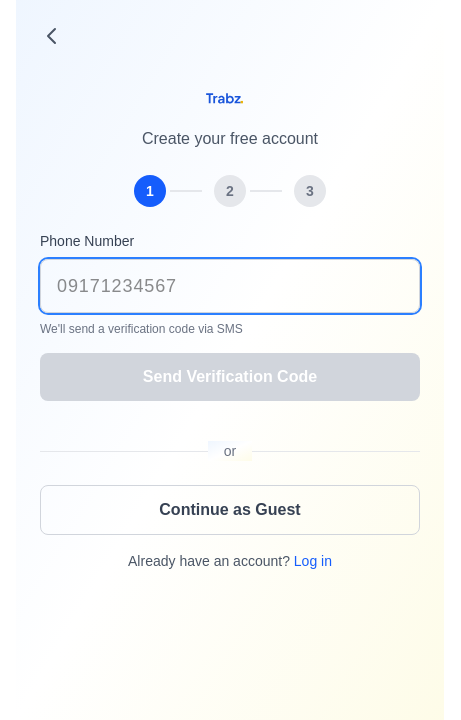
Test: Register flow › Error handling › clears error between steps
// Trigger a validation error on the phone step
In the field labelled "Phone Number": (230, 286) x1=40 y1=259 x2=420 y2=313, type "123"
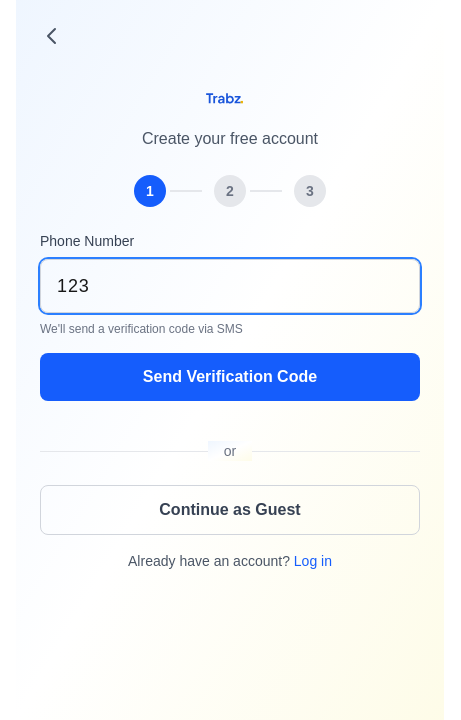
Click the button "Send Verification Code": (230, 377) x1=40 y1=353 x2=420 y2=401
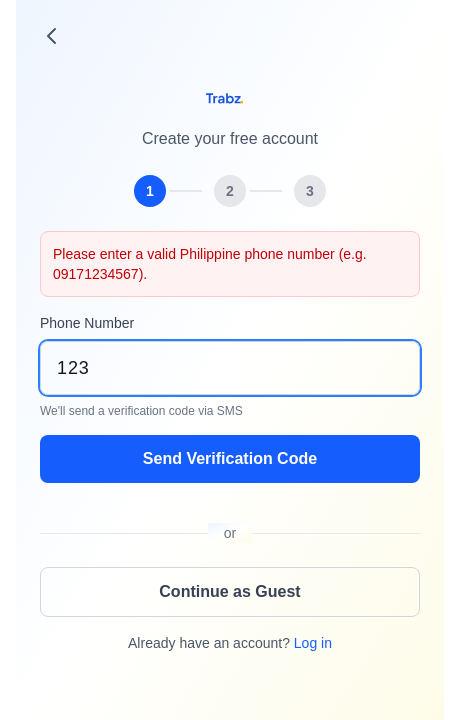
Check: the text "Please enter a valid Philippine phone number (e.g. 09171234567)." is shown, box x1=40 y1=231 x2=420 y2=297
// Now enter a valid phone and submit - error should be cleared
Replace the text in the field labelled "Phone Number" with "09171234567": (230, 368) x1=40 y1=341 x2=420 y2=395
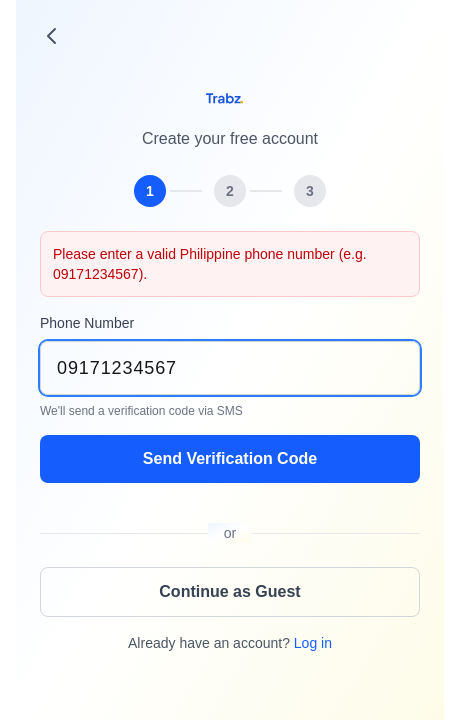
Click the button "Send Verification Code": (230, 459) x1=40 y1=435 x2=420 y2=483
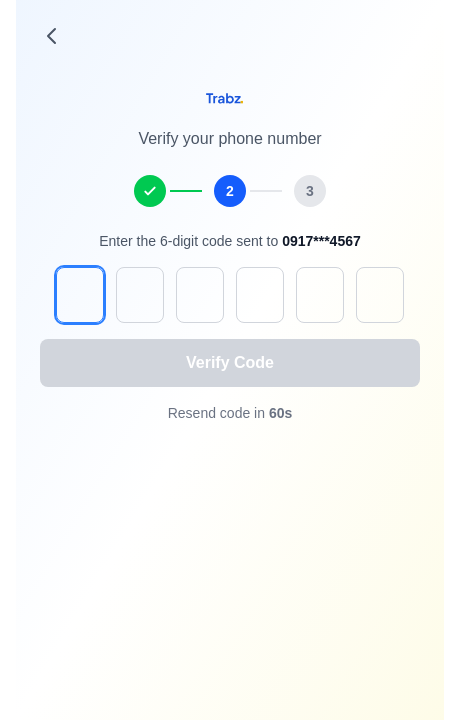
Check: the button "Verify Code" is shown, box x1=40 y1=339 x2=420 y2=387
Check: the text "Please enter a valid Philippine phone number (e.g. 09171234567)." is gone
